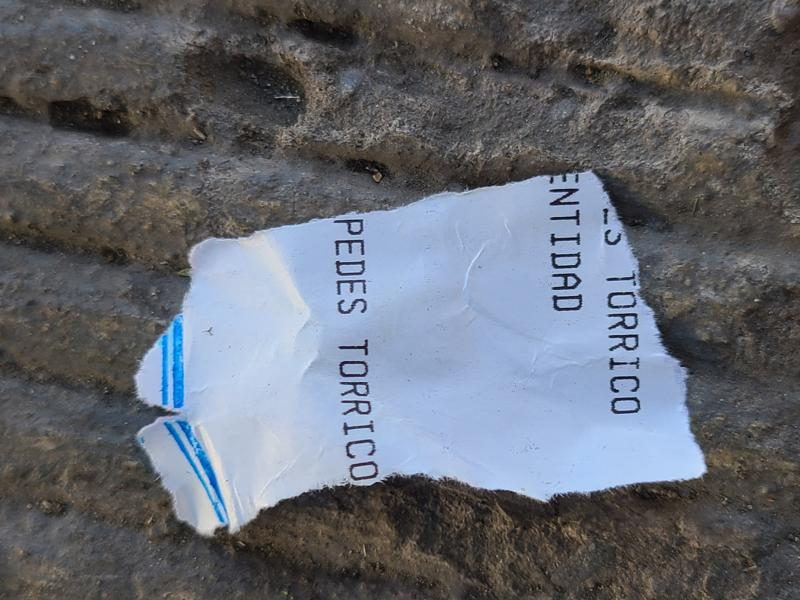papel: (132, 171, 708, 539)
